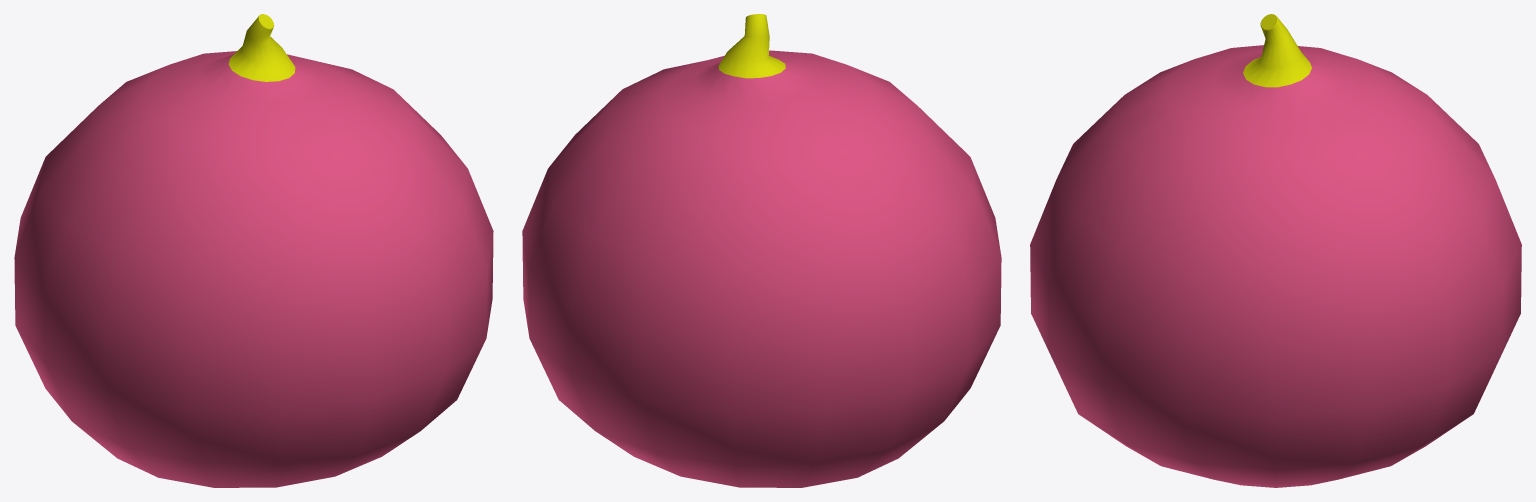
File: Onion.fbx
The picture shows the model from 3 angles, left to right: view 1: azimuth 30°, elevation 25°; view 2: azimuth 150°, elevation 25°; view 3: azimuth 270°, elevation 25°; orthographic projection.
Visible parts, largest first — view 1: Onion; view 2: Onion; view 3: Onion.
Boxes of the visible parts, x1,y1,x2,y2 form: Onion: [14, 14, 493, 487]; Onion: [522, 14, 1001, 487]; Onion: [1030, 14, 1521, 487].
Bounding box in the file's own units: 28.27 × 28.27 × 29.5.
